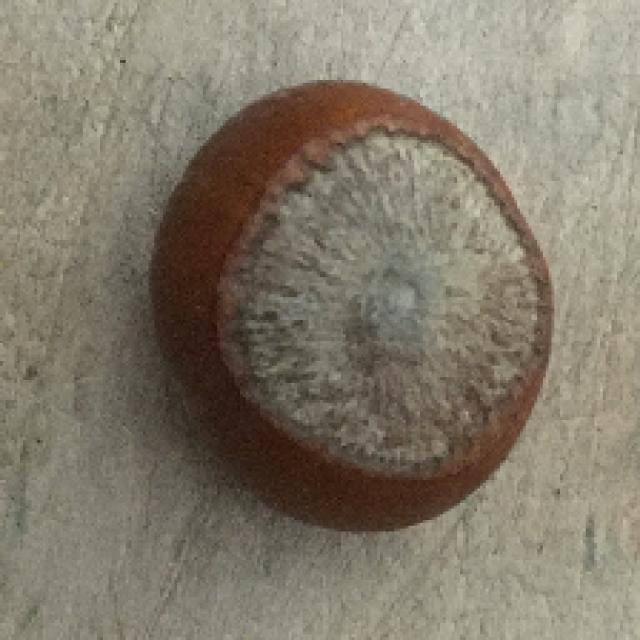qualityHazelnut: (145, 82, 553, 540)
